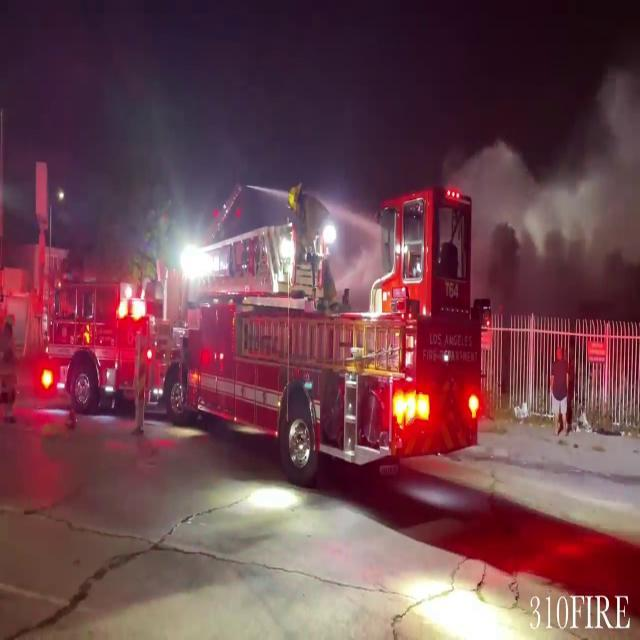Smoke: (474, 61, 640, 288)
